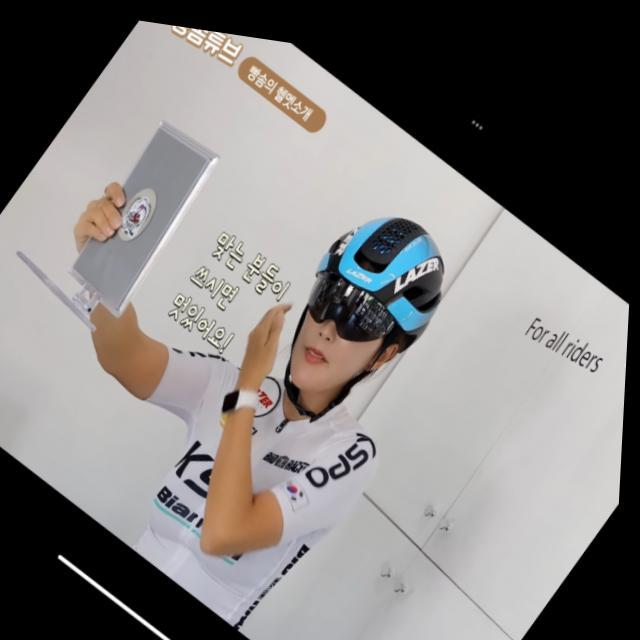Helmet: (264, 192, 456, 429)
